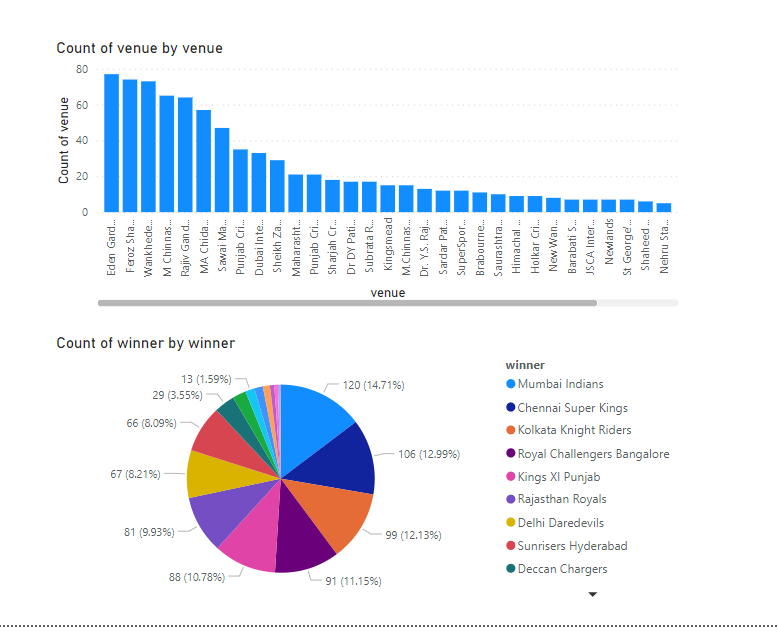

What the dashboard file says about the page in this screenshot:
{"tool":"powerbi","page":{"name":"Page 3","canvas":[1280,720],"ordinal":2},"visuals":[{"type":"columnChart","fields":{"Category":["IPL Matches 2008-2020.venue"],"Y":["IPL Matches 2008-2020.venue"]},"box":[322.7,75.5,693.6,299.4],"z":0},{"type":"pieChart","fields":{"Category":["IPL Matches 2008-2020.winner"],"Y":["IPL Matches 2008-2020.winner"]},"box":[322.7,399.7,693.6,299.4],"z":1}]}

Visuals, with their boxes on the page's 1280x720 design canvas (x1, y1, x2, y2). These are canvas units, not pixel positions in the 778x640 screenshot, which may show the page scaled, cropped or inside an application window:
columnChart - IPL Matches 2008-2020.venue x IPL Matches 2008-2020.venue: (323, 76, 1016, 375)
pieChart - IPL Matches 2008-2020.winner x IPL Matches 2008-2020.winner: (323, 400, 1016, 699)
